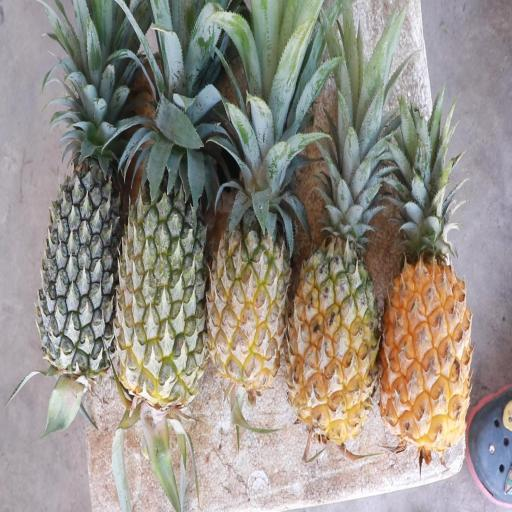------------------------------: (118, 140, 210, 412)
Pineapple - v8 v1: (384, 215, 472, 450), (291, 212, 378, 438), (207, 177, 290, 390)
